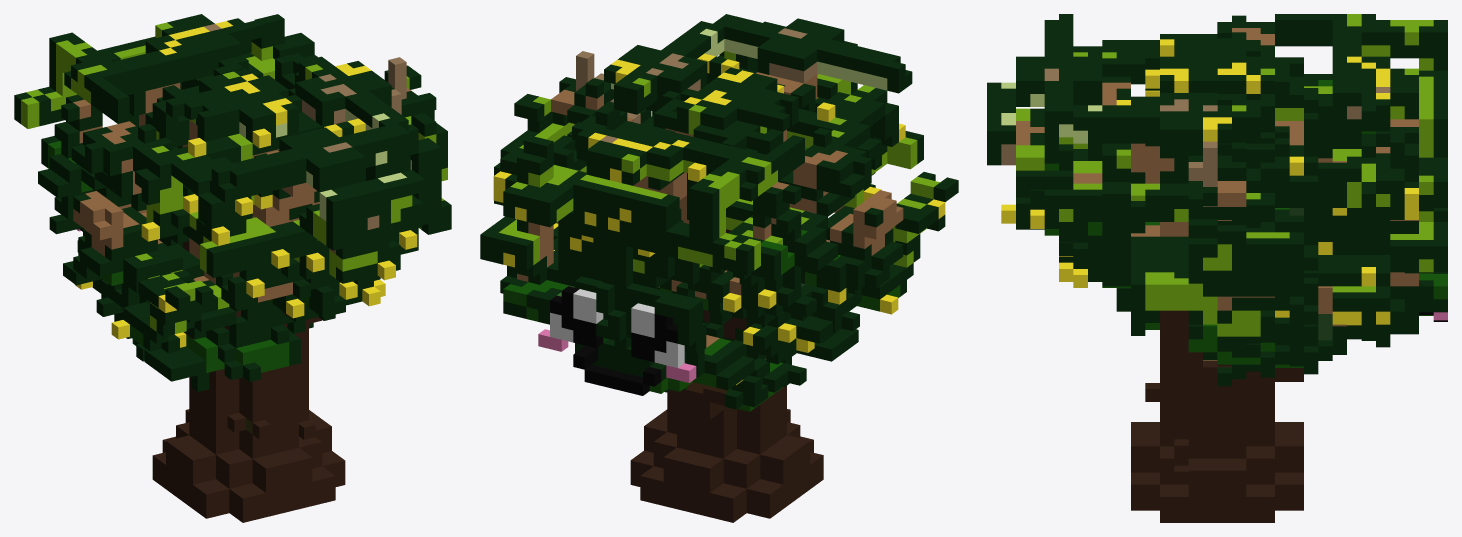
The model's file is Jhanely_Carolina_Pérez_Ramos_fase_4.obj.
3 renders of one model, left to right at view 1: azimuth 30°, elevation 25°; view 2: azimuth 150°, elevation 25°; view 3: azimuth 270°, elevation 25°, orthographic. The views are drawn at different scales.
Parts seen in each view (by area): view 1: Jhanely_Carolina_Pérez_Ramos_fase_4; view 2: Jhanely_Carolina_Pérez_Ramos_fase_4; view 3: Jhanely_Carolina_Pérez_Ramos_fase_4.
Boxes of the visible parts, bbox=[...] form: Jhanely_Carolina_Pérez_Ramos_fase_4: bbox=[14, 14, 451, 522]; Jhanely_Carolina_Pérez_Ramos_fase_4: bbox=[480, 14, 958, 522]; Jhanely_Carolina_Pérez_Ramos_fase_4: bbox=[987, 14, 1447, 522].
Bounding box in the file's own units: 30 × 32 × 32.
1 material, 1 textured.
